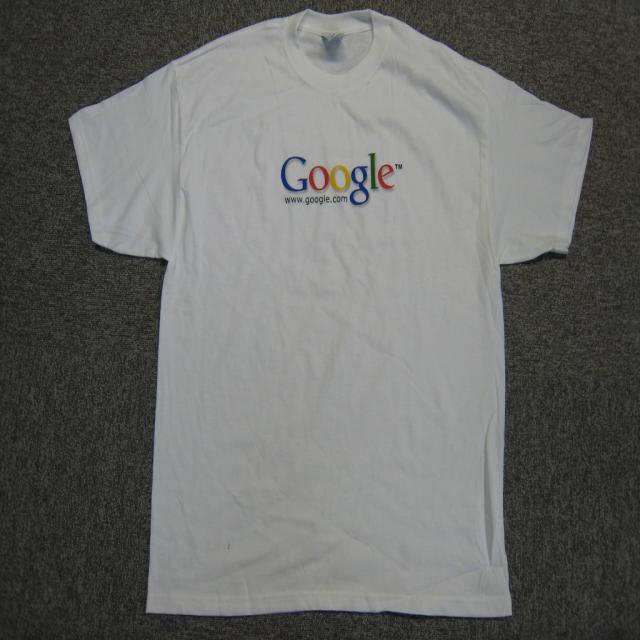google: (280, 149, 399, 211)
